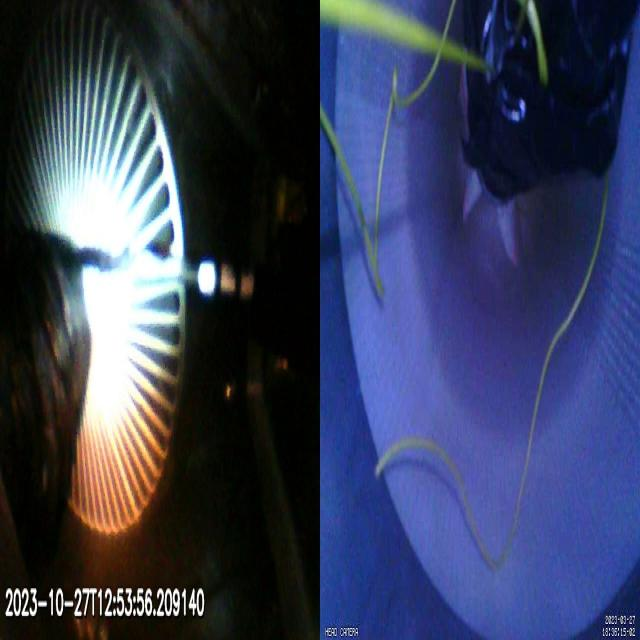white-dots: (198, 259, 256, 297)
